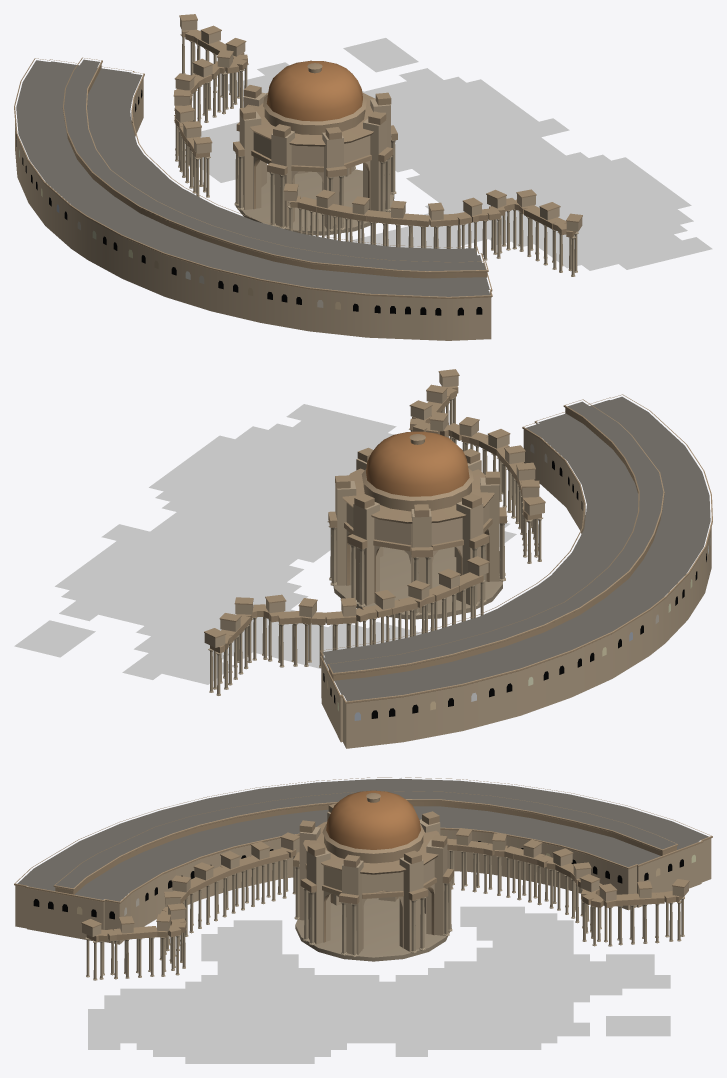
Rendered from pofa_lod1.glb.
3 views of the same model, one above another, from view 1: azimuth 30°, elevation 25°; view 2: azimuth 150°, elevation 25°; view 3: azimuth 270°, elevation 25° (orthographic). The views are drawn at different scales.
Parts seen in each view (by area): view 1: L1_water, L1_roof, L1_stone, L1_stucco, L1_paint, L1_paving, L1_win; view 2: L1_water, L1_roof, L1_stone, L1_stucco, L1_paint, L1_paving, L1_win; view 3: L1_water, L1_stone, L1_roof, L1_stucco, L1_paint, L1_paving, L1_win.
Part boxes in pixels (left/top/right/bottom): L1_water: left=199, top=38, right=712, bottom=270; L1_roof: left=16, top=59, right=489, bottom=296; L1_stone: left=173, top=14, right=582, bottom=276; L1_stucco: left=14, top=57, right=492, bottom=340; L1_paint: left=266, top=60, right=362, bottom=121; L1_paving: left=235, top=169, right=394, bottom=235; L1_win: left=15, top=89, right=482, bottom=315; L1_water: left=14, top=404, right=516, bottom=684; L1_roof: left=323, top=396, right=710, bottom=701; L1_stone: left=204, top=369, right=545, bottom=695; L1_stucco: left=320, top=394, right=712, bottom=748; L1_paint: left=366, top=431, right=469, bottom=496; L1_paving: left=333, top=547, right=502, bottom=619; L1_win: left=323, top=444, right=710, bottom=720; L1_water: left=88, top=906, right=670, bottom=1063; L1_stone: left=81, top=793, right=689, bottom=980; L1_roof: left=17, top=778, right=708, bottom=901; L1_stucco: left=14, top=777, right=712, bottom=944; L1_paint: left=326, top=790, right=420, bottom=849; L1_paving: left=295, top=892, right=451, bottom=961; L1_win: left=33, top=841, right=695, bottom=919.
Bounding box in the file's own units: 214 × 55.33 × 259.
